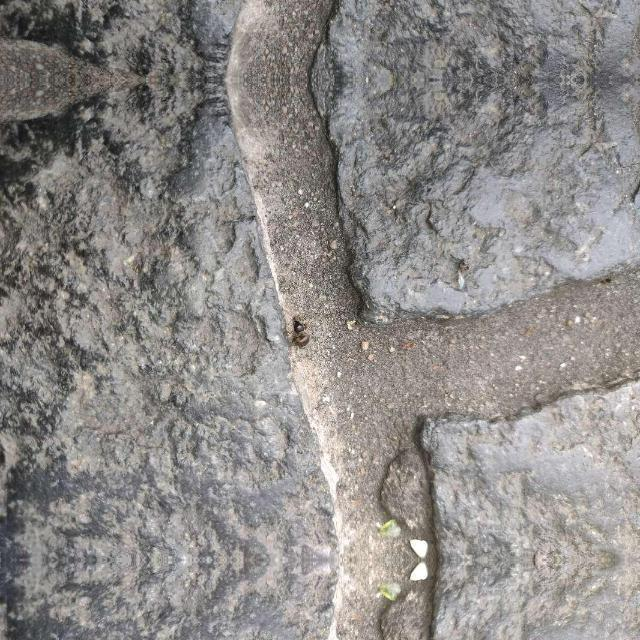Lasius: (280, 306, 314, 348)
